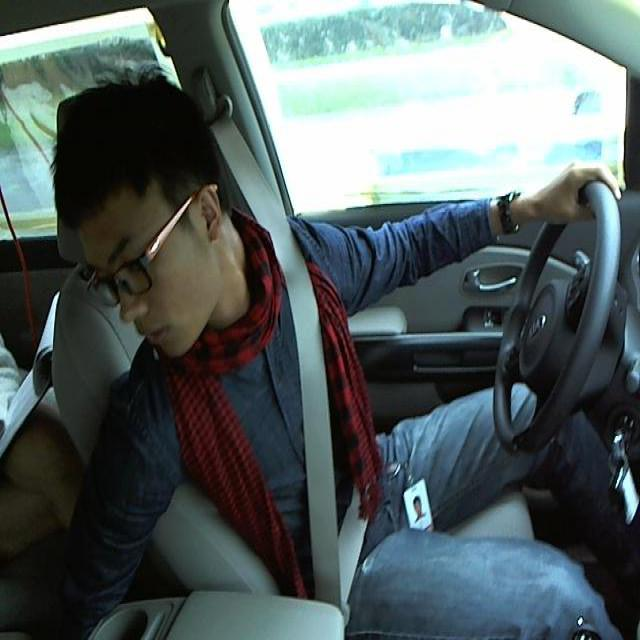seatbelt: (246, 205, 386, 595)
